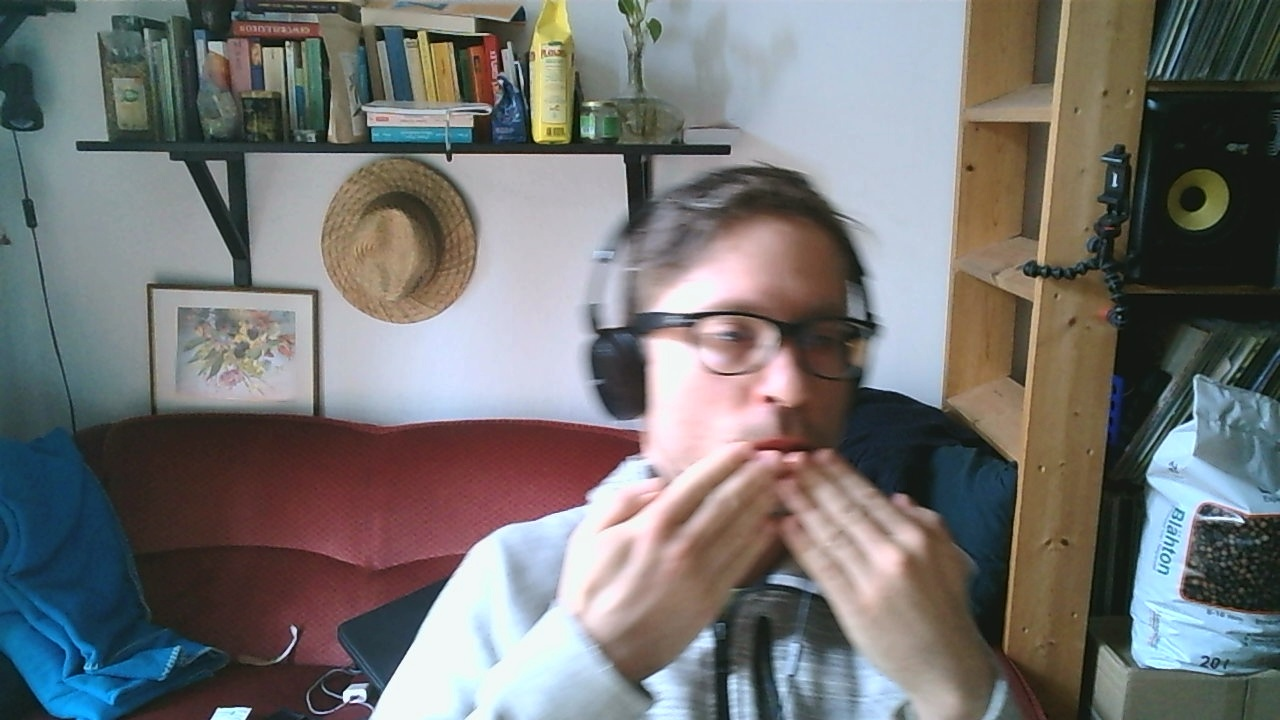thanks: (553, 440, 978, 690)
